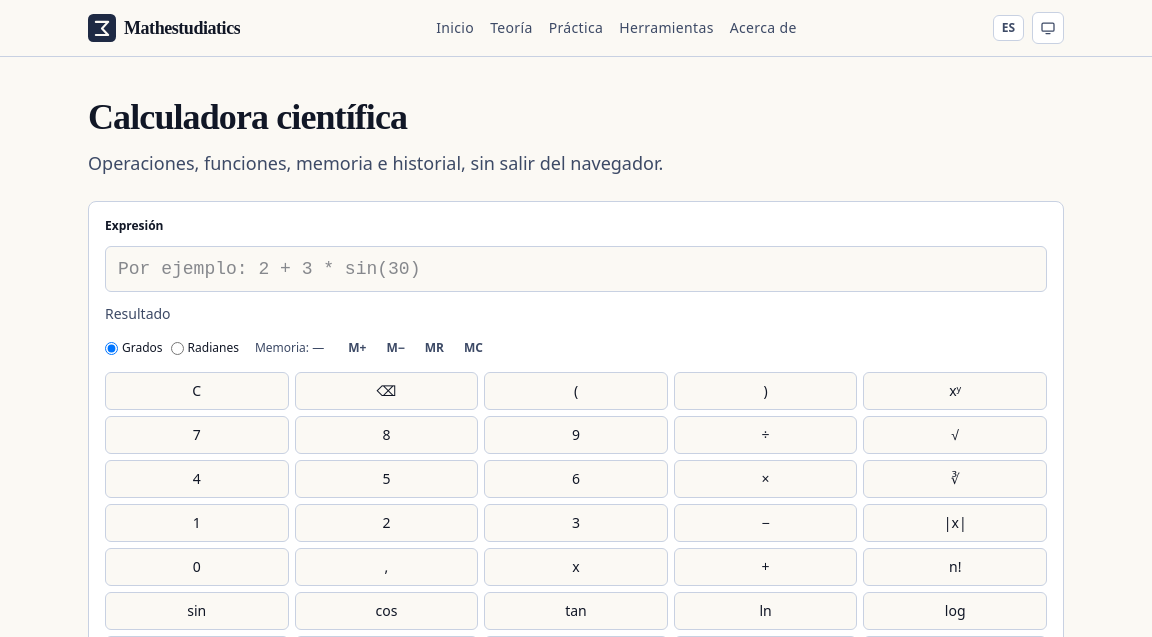
Scenario: calculator page › evaluates an expression and shows the result
Expected: the heading "Calculadora científica" is shown, [88, 97, 407, 137]
Type "2 + 3 * 4" into the field labelled "Expresión". click: x=576, y=269
box: [105, 246, 1047, 292]
(page scrolled)
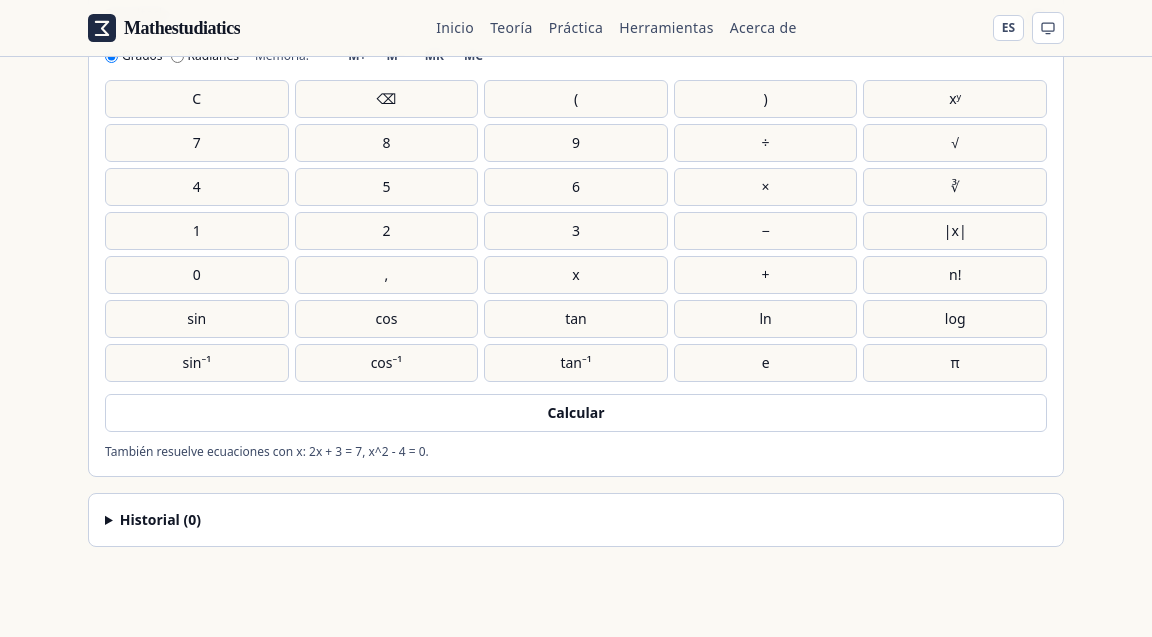
Click the button "Calcular". click: x=576, y=413
box: [105, 394, 1047, 432]
(page scrolled)
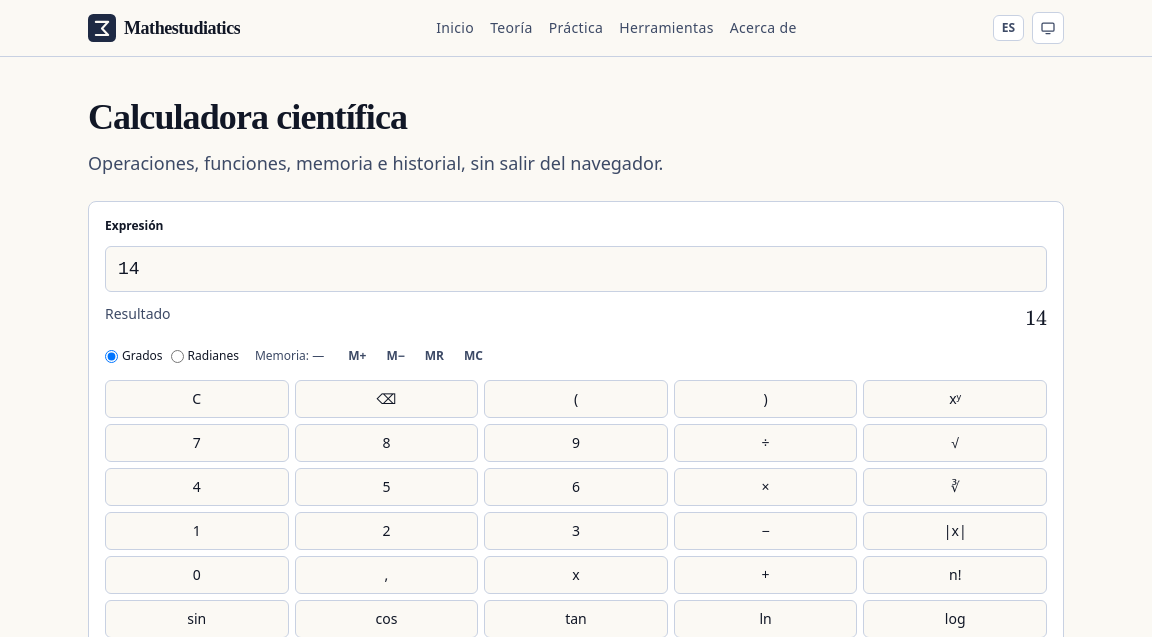
Result: the message reads "14" at [1025, 305, 1047, 331]
Result: the field labelled "Expresión" holds "14" at [105, 246, 1047, 292]
